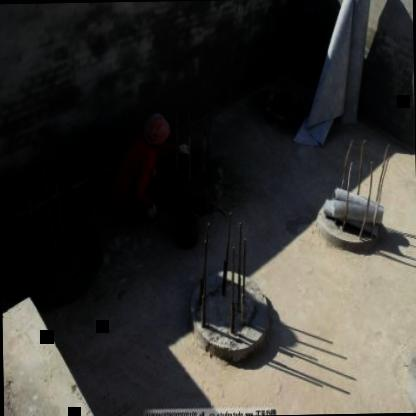helmet: (138, 106, 174, 154)
